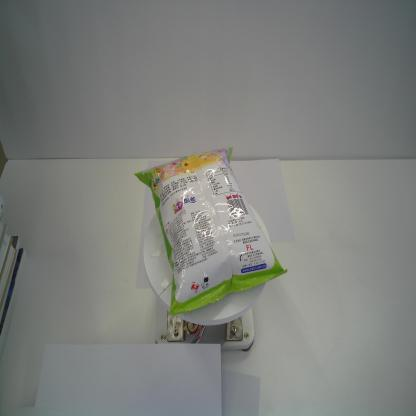Puffed Food: (134, 146, 288, 316)
